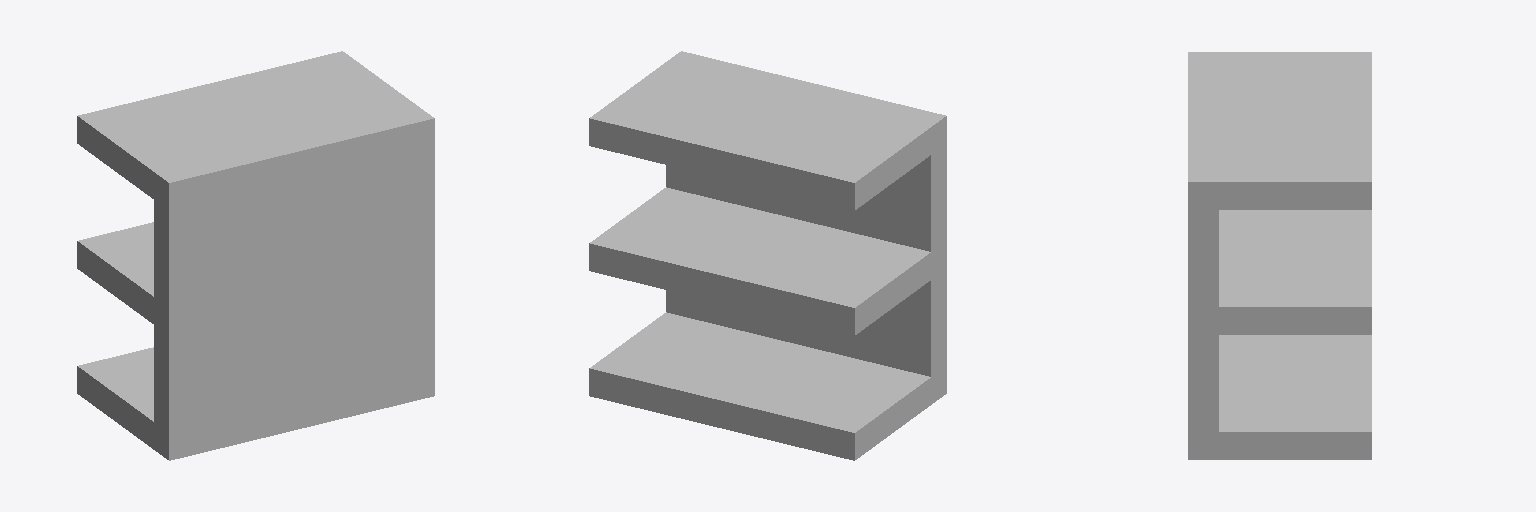
File: pcity_nodes_shelf_1_double_shallow_middle.obj
The picture shows the model from 3 angles: view 1: azimuth 30°, elevation 25°; view 2: azimuth 150°, elevation 25°; view 3: azimuth 270°, elevation 25°; orthographic projection.
Parts seen in each view (by area): view 1: Shelf_Middle.003; view 2: Shelf_Middle.003; view 3: Shelf_Middle.003.
Boxes of the visible parts, x1,y1,x2,y2 form: Shelf_Middle.003: [77, 51, 434, 460]; Shelf_Middle.003: [589, 51, 946, 460]; Shelf_Middle.003: [1188, 52, 1371, 459].
Bounding box in the file's own units: 1 × 1 × 0.6.